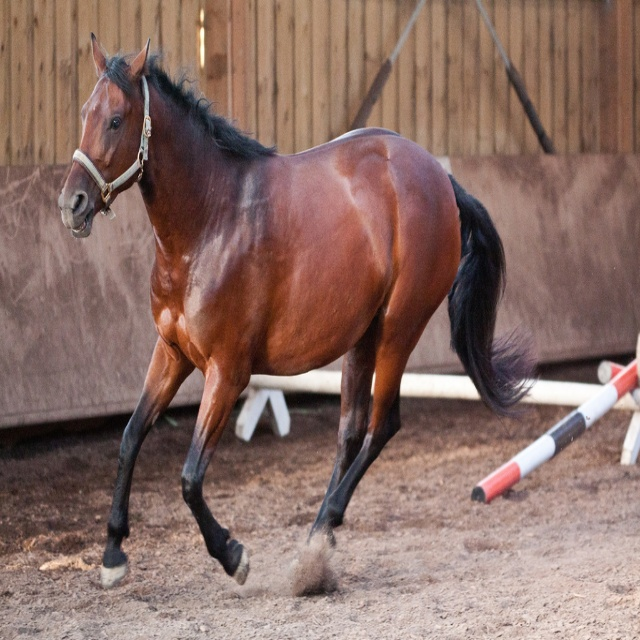Horse: (57, 25, 543, 587)
